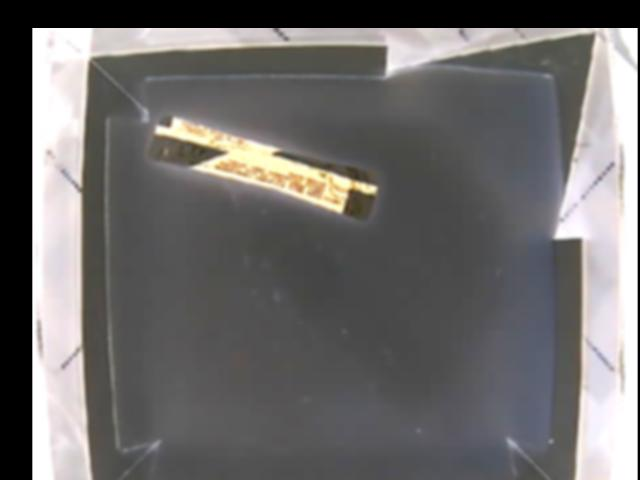Medicine: (144, 112, 380, 220)
